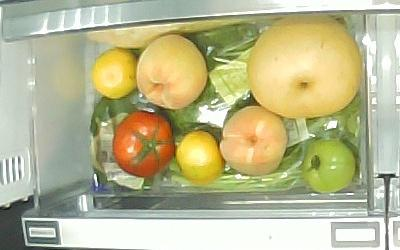peach: (136, 34, 208, 110), (221, 106, 287, 175)
pear: (247, 14, 360, 118)
tangerine: (176, 130, 223, 184), (92, 47, 138, 100)
tomato: (112, 110, 175, 178), (302, 139, 355, 193)
